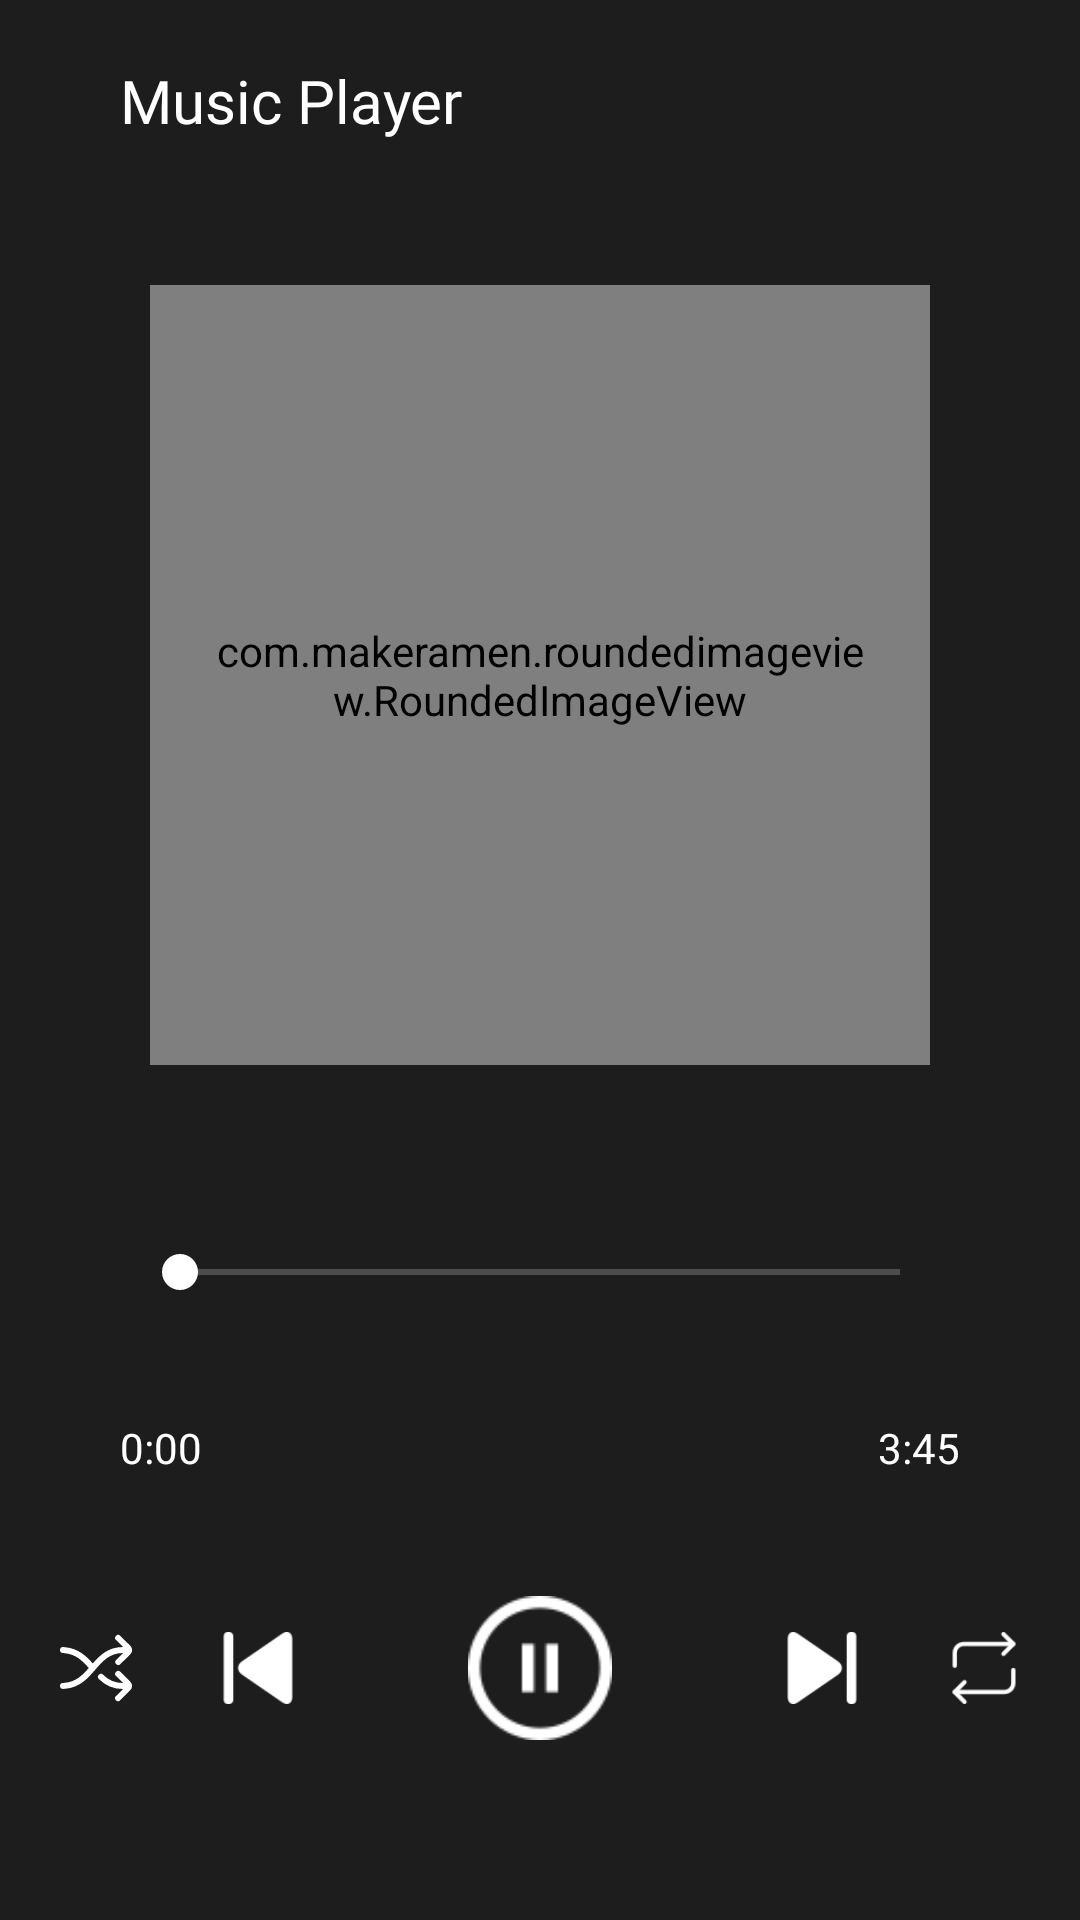

Named icons in this screenshot (1080 x 1920) and their bounding boxes, (x1, y1, x2, y2):
next: (787, 1632, 857, 1704)
pause: (468, 1596, 612, 1740)
previous: (223, 1632, 293, 1704)
repeat: (952, 1632, 1016, 1704)
shuffle: (60, 1634, 132, 1702)
